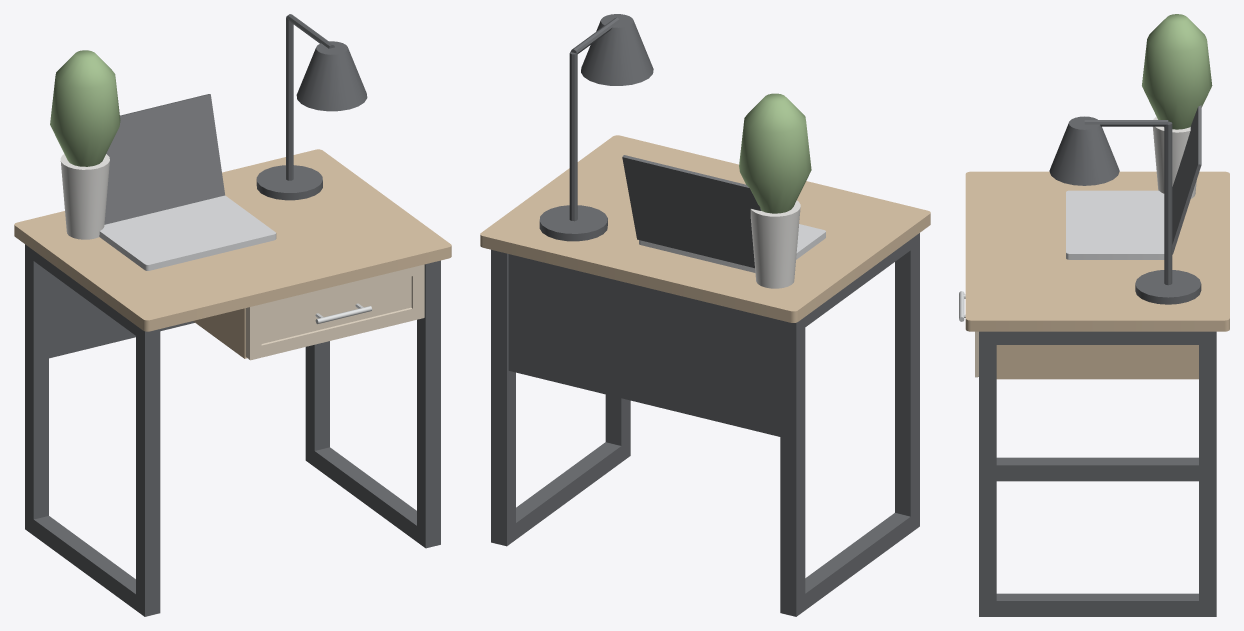
3 views of the same model, side by side, from view 1: azimuth 30°, elevation 25°; view 2: azimuth 150°, elevation 25°; view 3: azimuth 270°, elevation 25° (orthographic). The views are drawn at different scales.
Visible parts, largest first — view 1: Bàn học Dài=800; Sâu=600; view 2: Bàn học Dài=800; Sâu=600; view 3: Bàn học Dài=800; Sâu=600.
Boxes of the visible parts, x1,y1,x2,y2 form: Bàn học Dài=800; Sâu=600: (14,14,451,616); Bàn học Dài=800; Sâu=600: (480,14,930,616); Bàn học Dài=800; Sâu=600: (959,14,1229,616).
Bounding box in the file's own units: 0.8 × 1.19 × 0.615.
